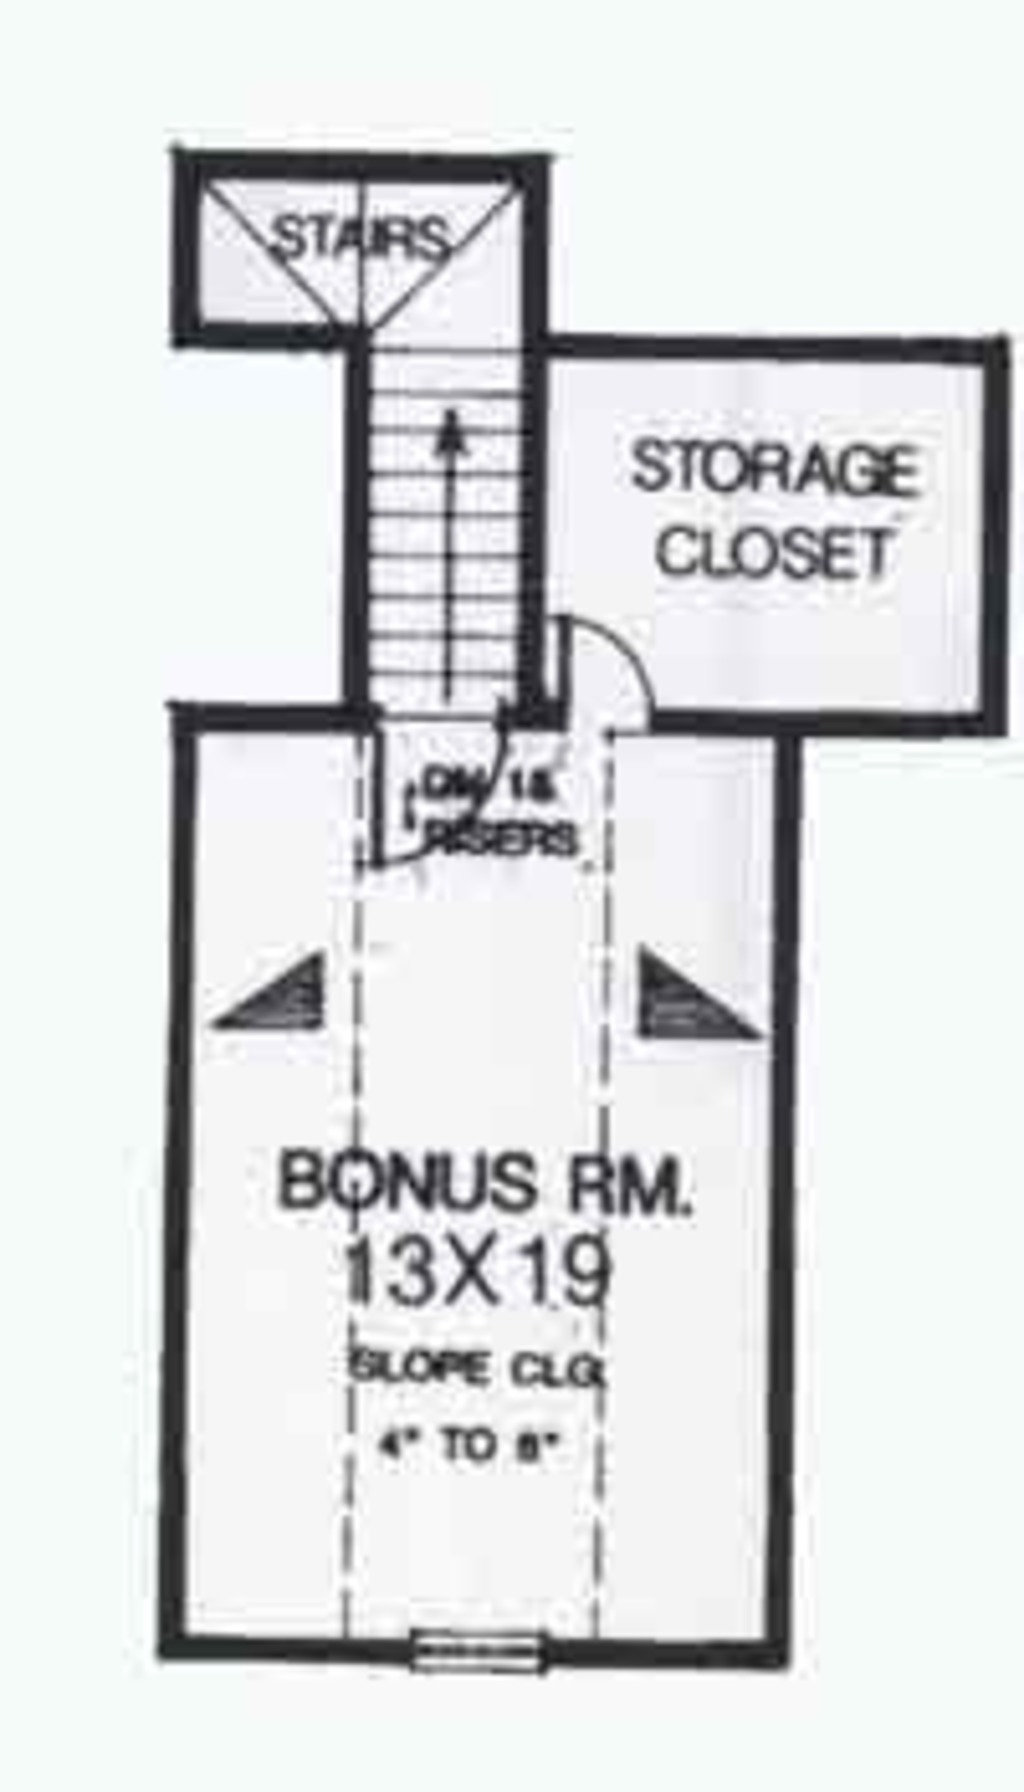door: (370, 718, 507, 884), (560, 598, 686, 751)
stairs: (182, 150, 560, 709)
window: (396, 1618, 555, 1682)
